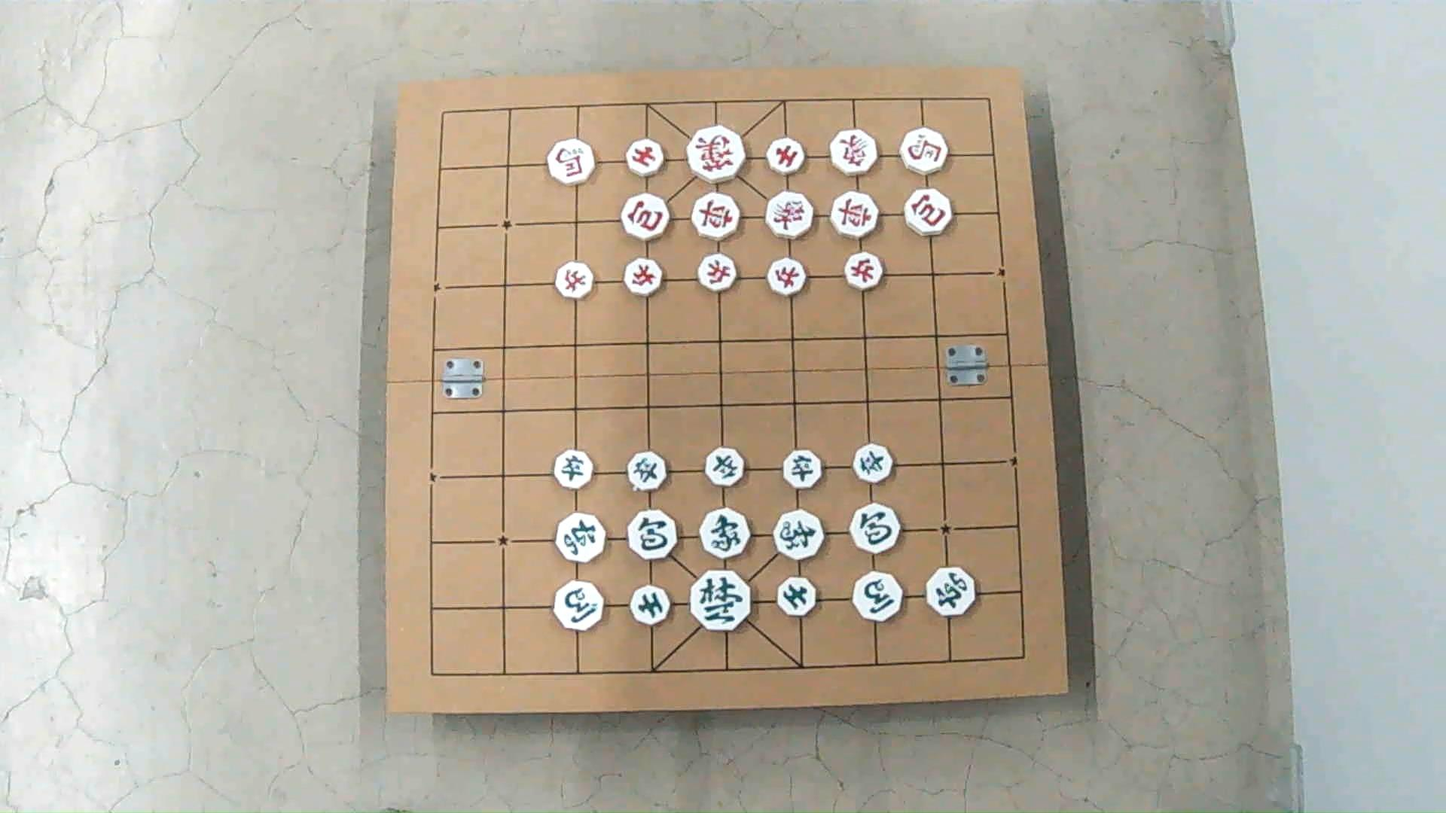cha_green: (555, 513, 606, 562), (925, 568, 974, 616)
cha_red: (692, 193, 739, 239), (831, 192, 877, 238)
jol_green: (627, 452, 667, 491), (853, 444, 892, 483), (783, 449, 821, 489), (554, 449, 592, 489), (704, 448, 743, 486)
jol_red: (624, 257, 662, 296), (844, 252, 883, 290), (697, 254, 735, 291), (555, 262, 593, 299), (768, 258, 805, 295)
ma_green: (554, 581, 603, 630), (853, 572, 901, 621)
ma_red: (900, 128, 947, 174), (547, 139, 594, 185)
po_green: (628, 510, 677, 560), (850, 504, 900, 553)
po_red: (621, 193, 668, 240), (904, 189, 951, 235)
sa_green: (631, 585, 670, 625), (777, 577, 816, 616)
sa_red: (767, 137, 805, 175), (625, 139, 664, 176)
sang_green: (699, 508, 750, 559), (773, 510, 823, 560)
sang_red: (766, 191, 813, 239), (830, 129, 877, 175)
wang_green: (690, 569, 751, 631)
wang_red: (688, 126, 744, 181)
